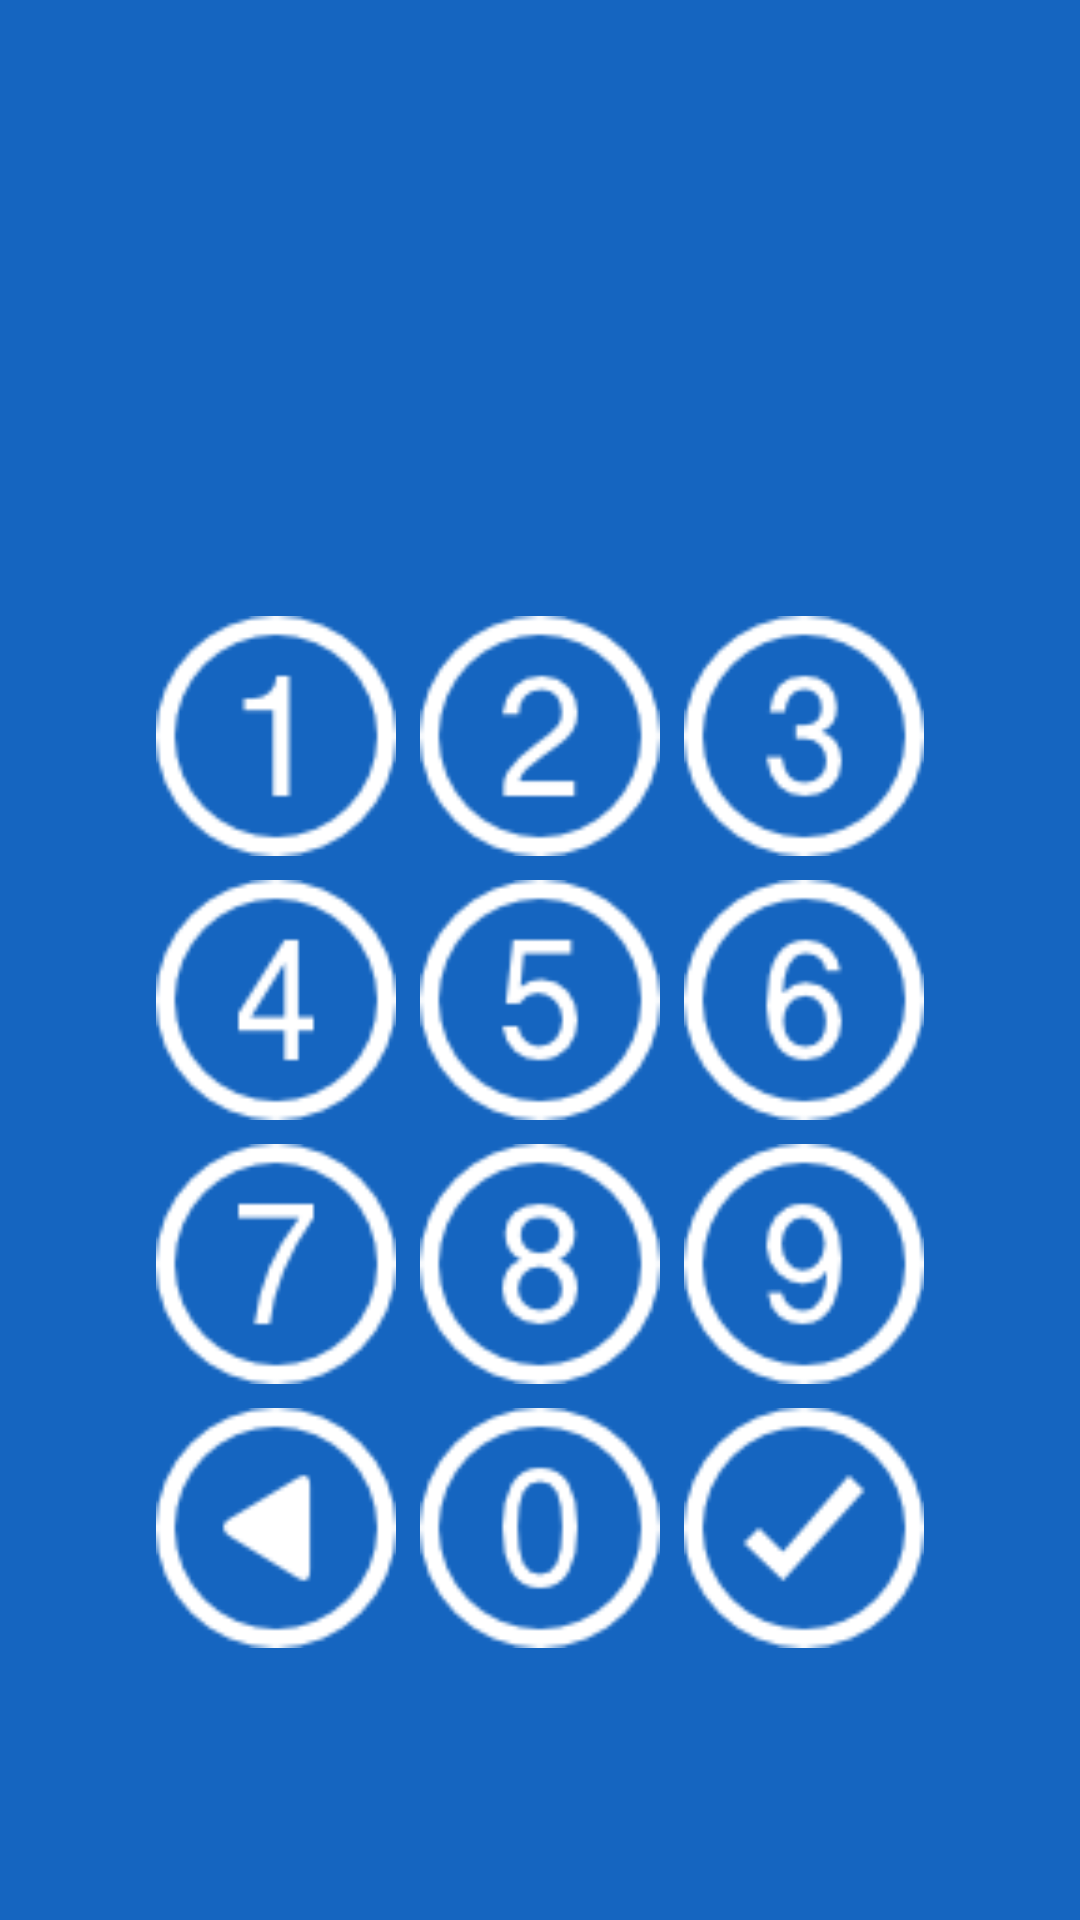

Screen size 1080x1920. Icon name, then its box in pixels as (x1, y1, x2, y2):
number back: (156, 1408, 396, 1648)
number ok: (684, 1408, 924, 1648)
